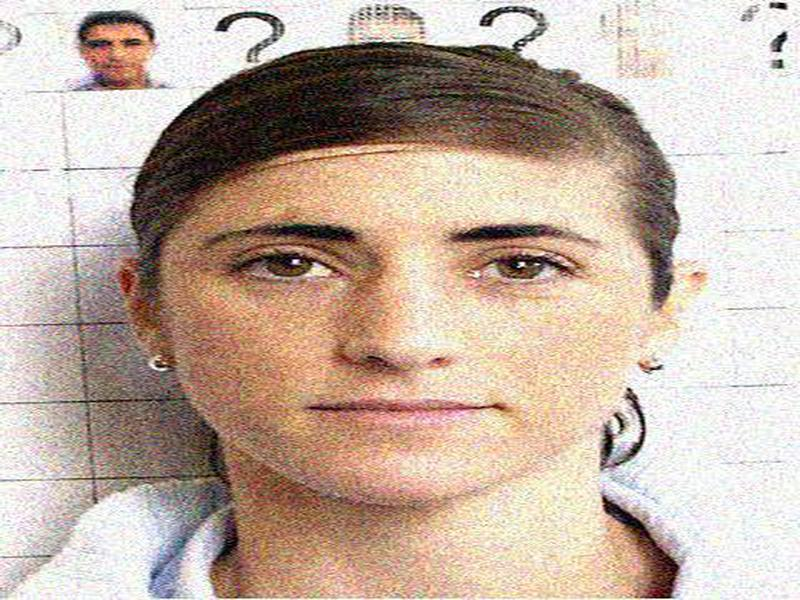without_mask: (163, 140, 651, 510)
